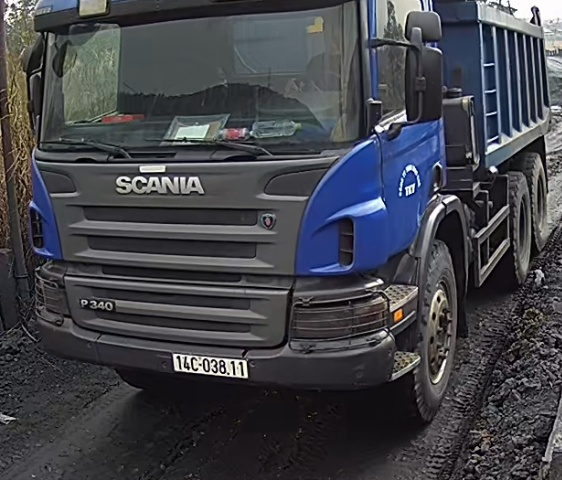vehicle plate: (170, 350, 253, 382)
